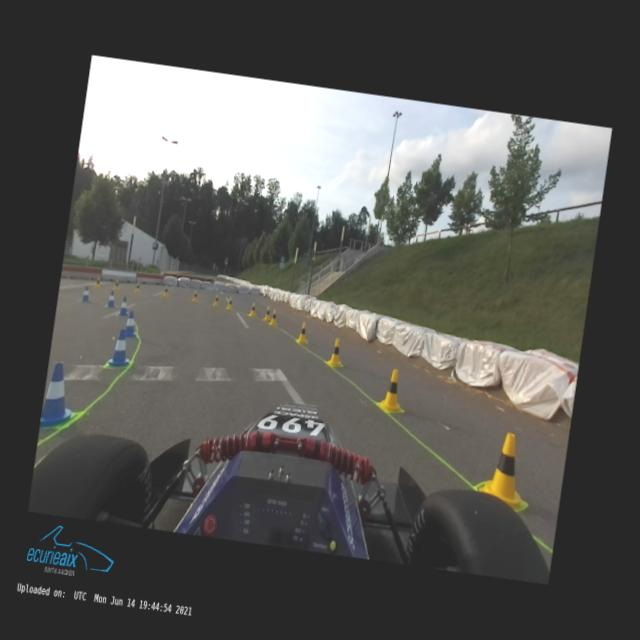blue_cone: (40, 361, 84, 433), (107, 328, 135, 370), (124, 310, 139, 338), (118, 296, 131, 317), (107, 290, 118, 309), (82, 285, 92, 302)
yellow_cone: (478, 430, 534, 510), (378, 368, 408, 414), (327, 338, 345, 367), (296, 321, 310, 343), (269, 310, 279, 326), (249, 302, 258, 316), (264, 306, 272, 320), (134, 281, 142, 293), (227, 297, 234, 310), (192, 290, 198, 302), (214, 294, 220, 306), (114, 278, 120, 290), (95, 276, 101, 288), (163, 286, 169, 296)
